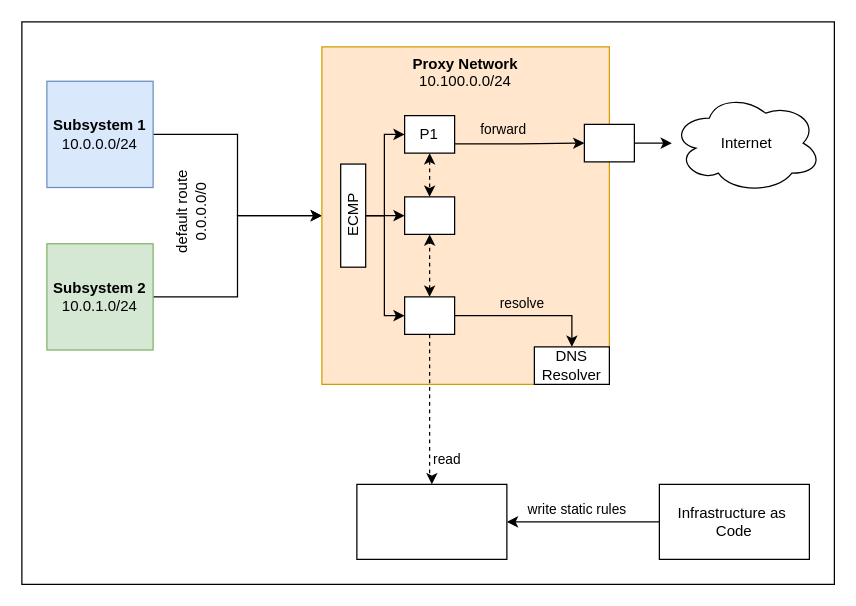
This 856x606 diagram has some shape labels left out. Here are the shapes that lost their labels. From the top down, the centre of each, then its label:
the point at 608,142: IGW
the point at 429,215: P2
the point at 429,315: P3
the point at 431,521: Ruleset
